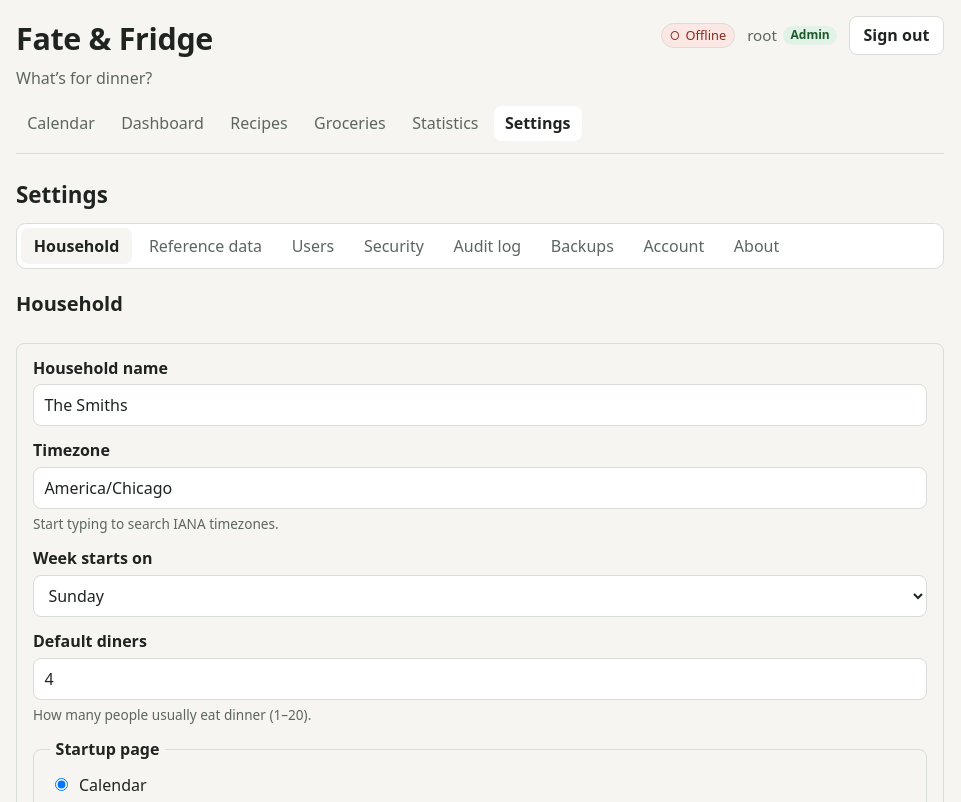
Test: household settings section › loads the settings and saves the edited fields
Replace the text in the field labelled "Household name" with "Updated Household" at (480, 405), box [33,384,927,426]
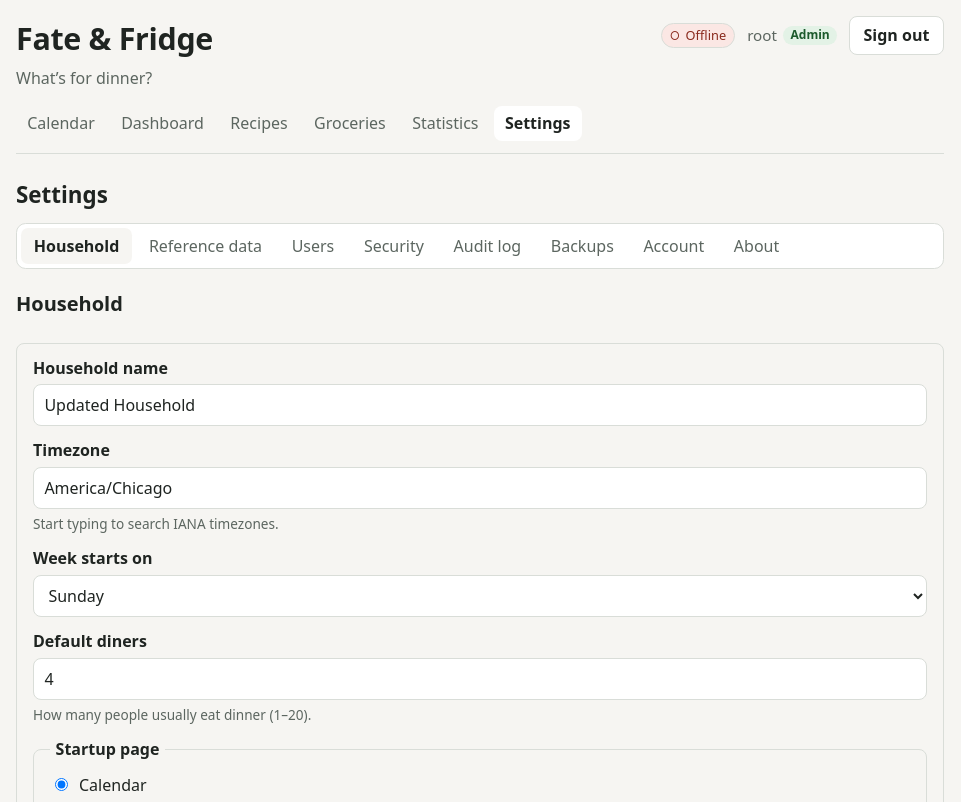
Replace the text in the number field labelled "Default diners" with "6" at (480, 679), box [33,658,927,700]
(page scrolled)
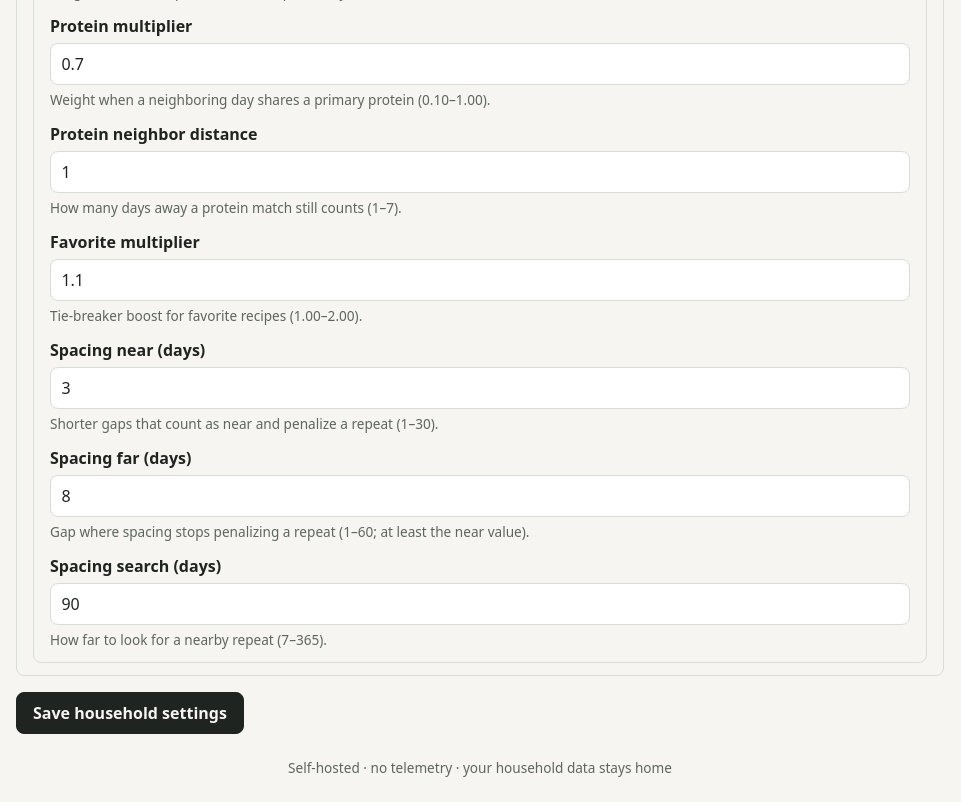
Click the button "Save household settings".
click(130, 713)  # box [16,692,244,734]
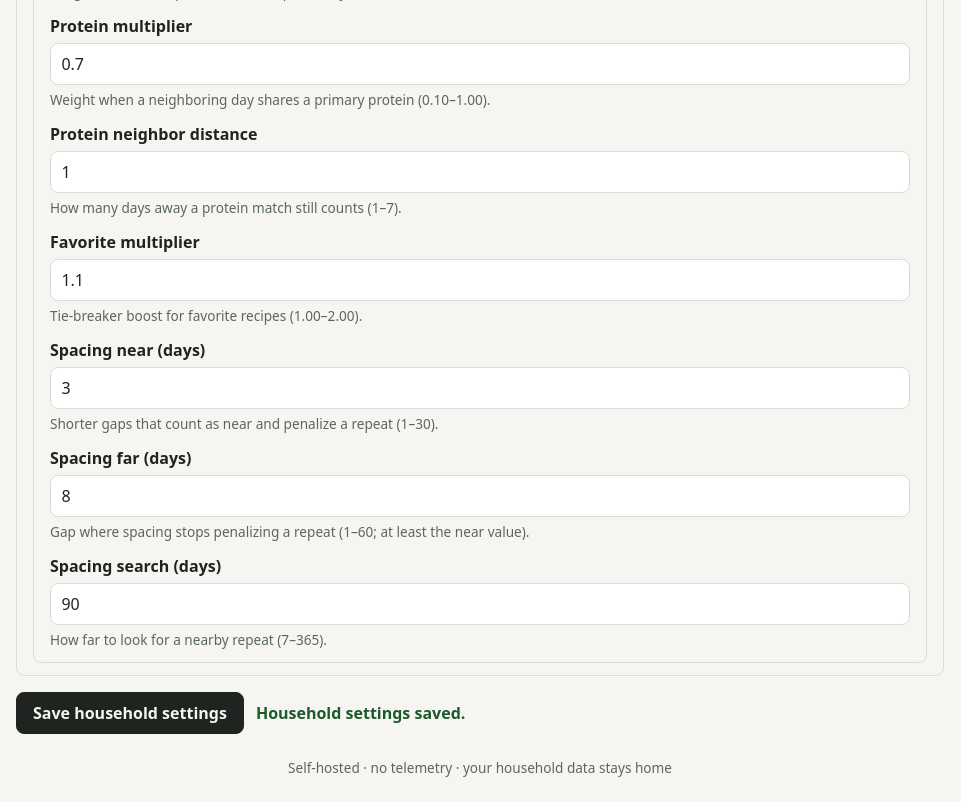
Expected: the message reads "Household settings saved.", [256,702,465,724]
